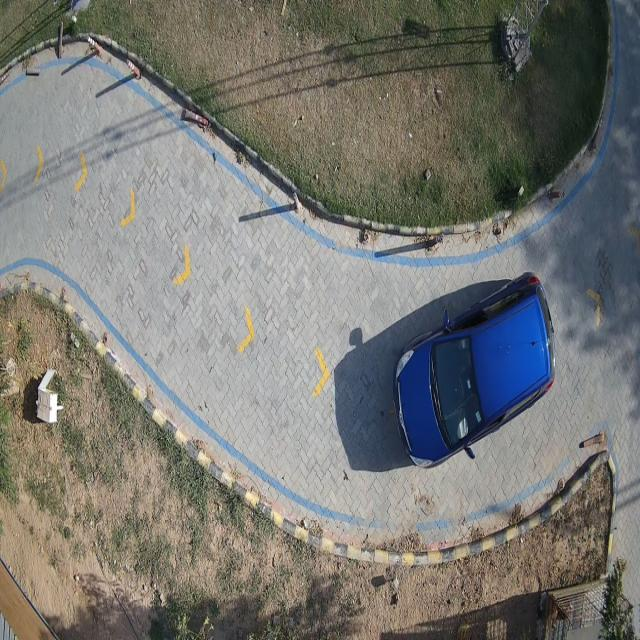car: (394, 273, 555, 466)
